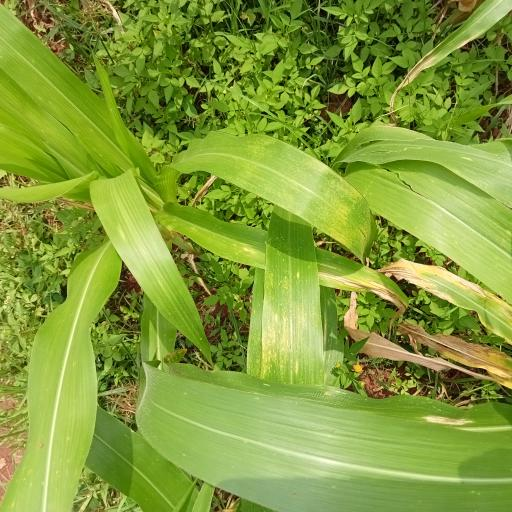Corn_Brown_Spots: (160, 118, 379, 263), (255, 215, 341, 392)
